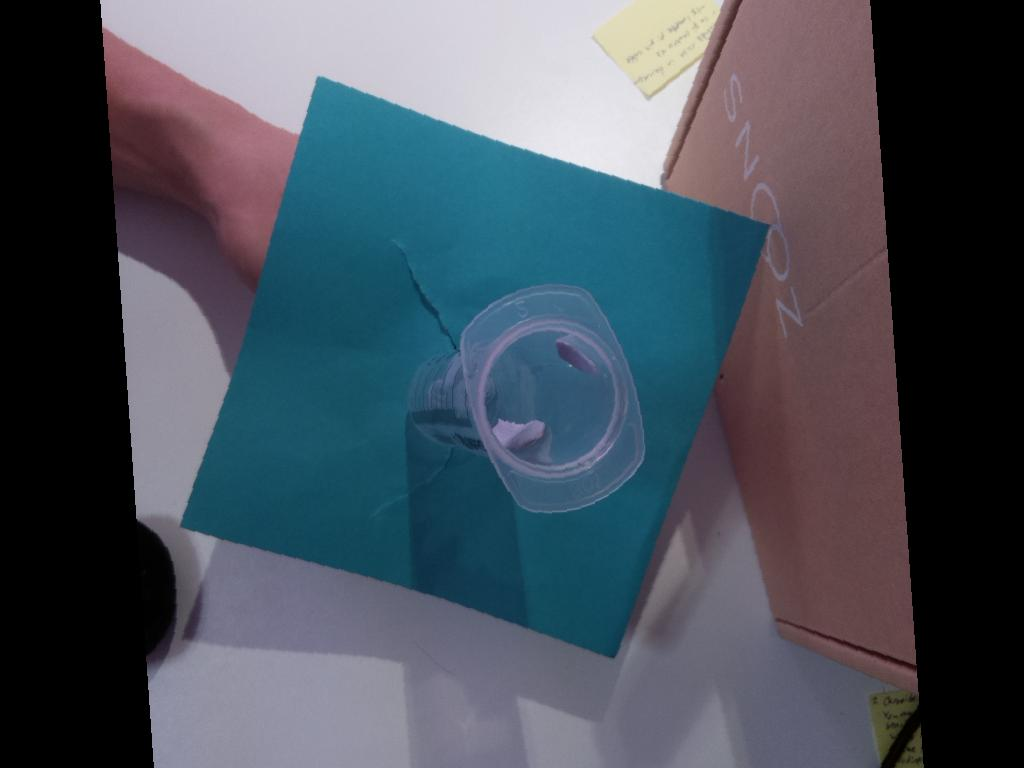dirty: (460, 284, 646, 515)
